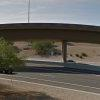Bridge: (7, 12, 99, 56)
